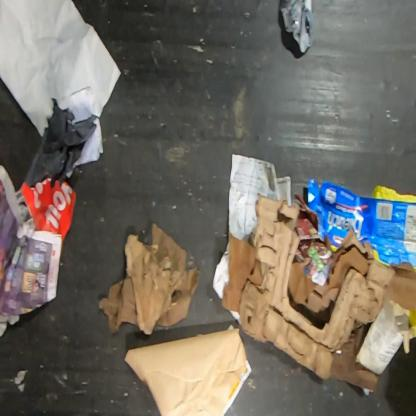cardboard: (238, 194, 396, 381), (123, 324, 249, 415)
rigid_plastic: (280, 0, 314, 53)
soft_plastic: (23, 97, 97, 189)
